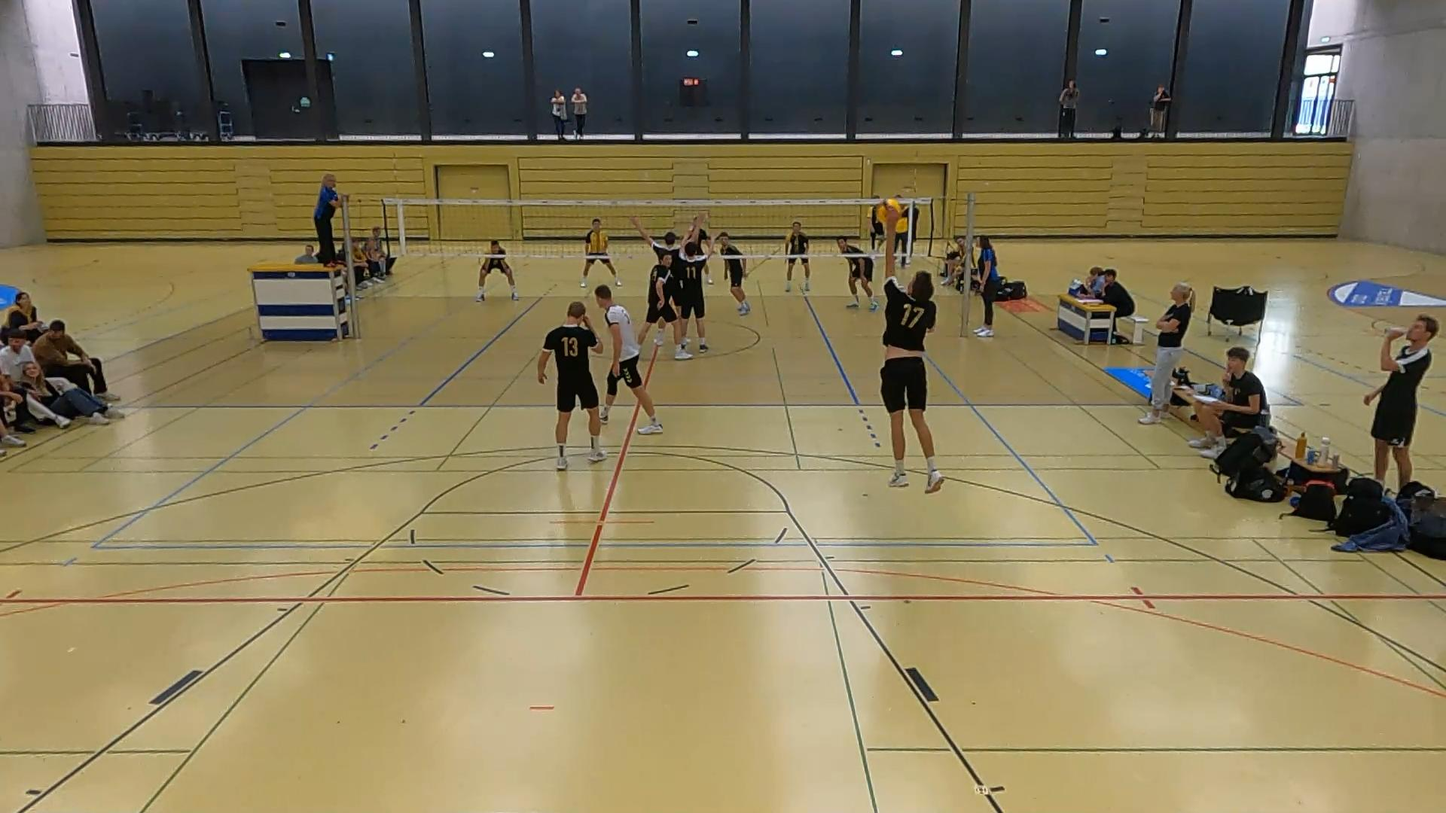battuta: (867, 202, 949, 498)
